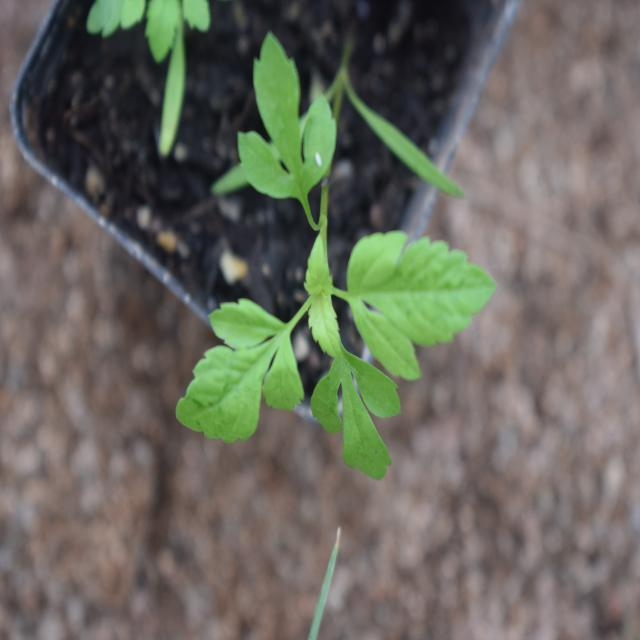Bidens pilosa: (163, 34, 470, 471)
